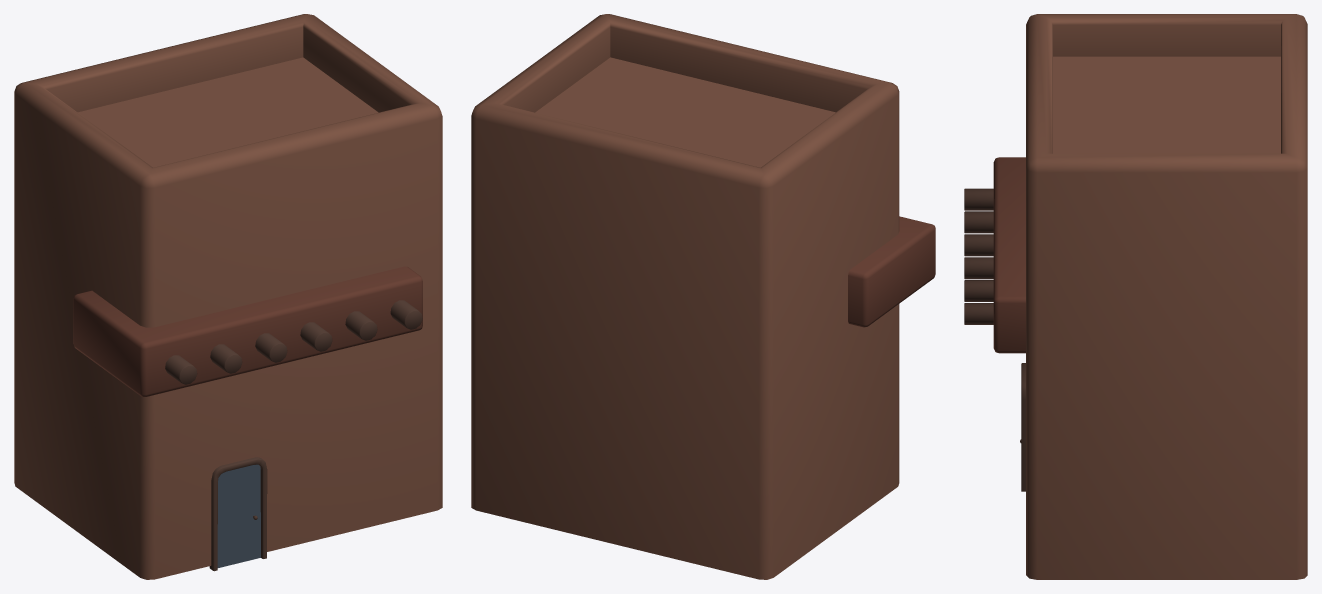
Rendered from BuildingCluster_b02.fbx.
3 renders of one model, left to right at view 1: azimuth 30°, elevation 25°; view 2: azimuth 150°, elevation 25°; view 3: azimuth 270°, elevation 25°, orthographic. The views are drawn at different scales.
Parts seen in each view (by area): view 1: base.005; view 2: base.005; view 3: base.005.
Boxes of the visible parts, x1,y1,x2,y2 form: base.005: [14, 14, 442, 579]; base.005: [471, 14, 935, 579]; base.005: [964, 14, 1307, 579].
Size of the model in its own units: 664 by 805 by 594.
